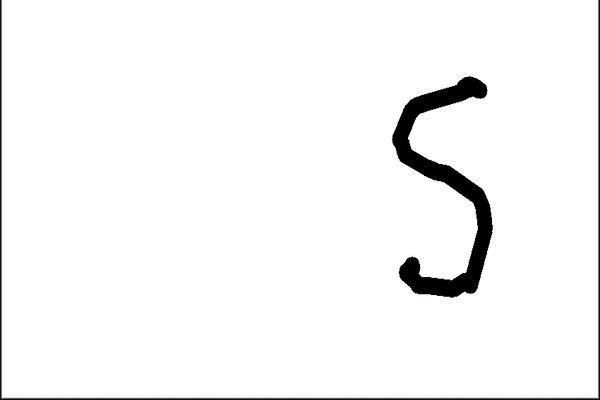S: (384, 71, 495, 304)
